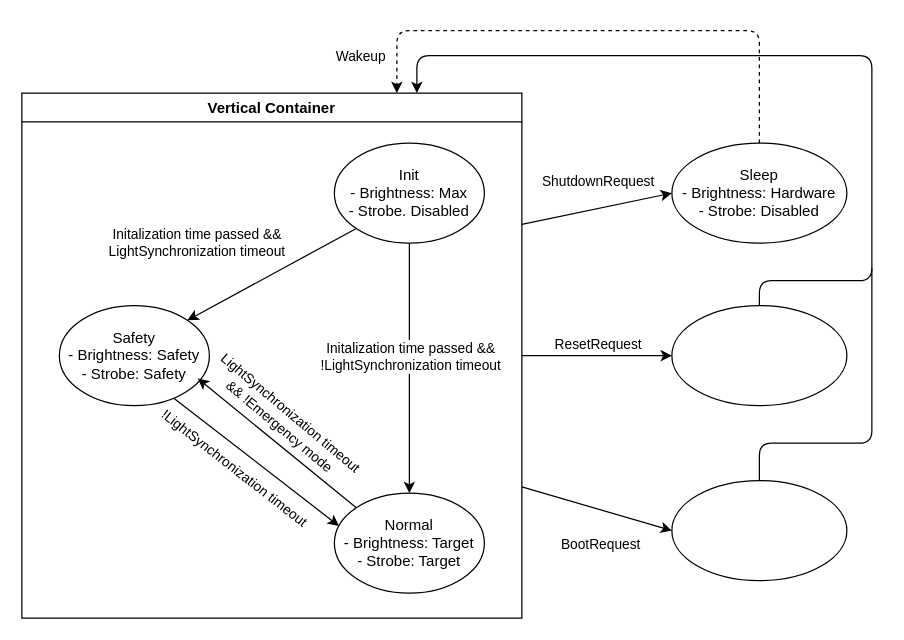
Some shapes in this 904 by 640 pixel diagram are drawn without their labels. The box of each missing label's shape, as (x1, y1, x2, y2) in pixels:
Boot - Brightness: Hardware - Strobe: Disabled: (671, 479, 847, 581)
Reset - Brightness: Hardware - Strobe: Disabled: (671, 304, 847, 406)
